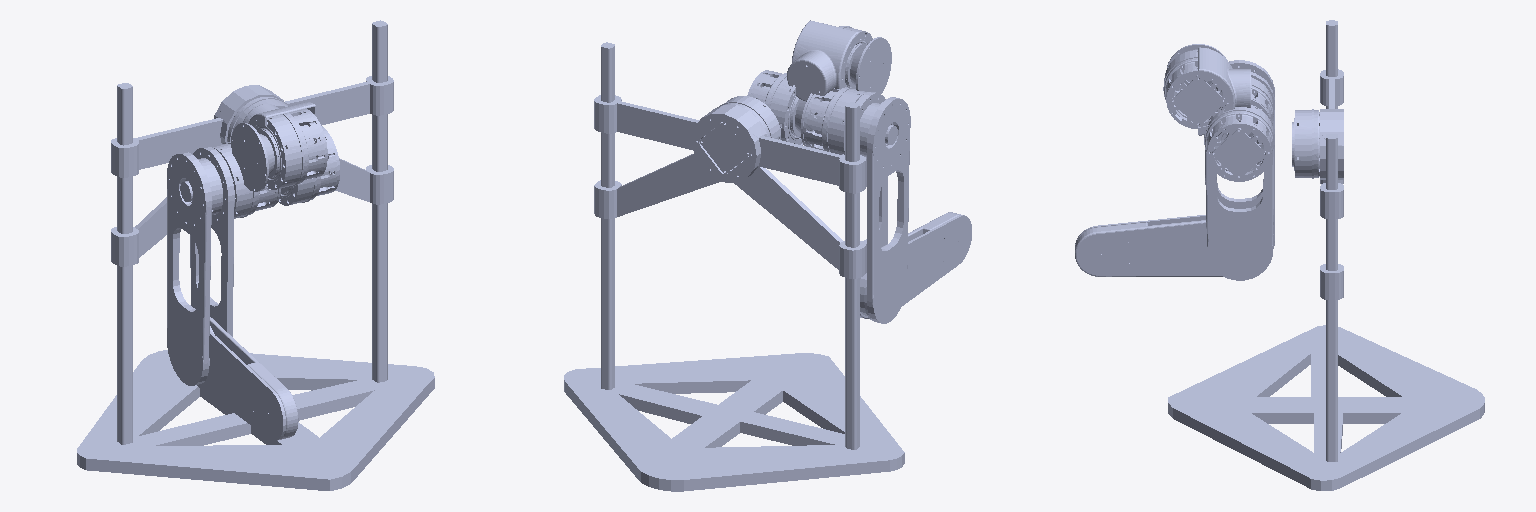
The robot description file, URDF, robot "titanleg":
<?xml version="1.0" encoding="utf-8"?>
<robot
name="titanleg" xmlns:xacro="http://ros.org/wiki/xacro">
  <link
  name="world_link"/>
  <link
    name="base_link">
    <inertial>
      <origin
        xyz="0.213364495363574 -0.471640702282736 0.19640549122243"
        rpy="0 0 0" />
      <mass
        value="4.56027988555656" />
      <inertia
        ixx="0.189441924698921"
        ixy="0.00107759199253"
        ixz="-0.00110055721004939"
        iyy="0.241596135146403"
        iyz="-0.00251149046217883"
        izz="0.144666388806691" />
    </inertial>
    <visual>
      <origin
        xyz="0 0 0"
        rpy="0 0 0" />
      <geometry>
        <mesh
          filename="package://my_box_bot_gazebo/meshes/base_link.STL" />
      </geometry>
      <material
        name="">
        <color
          rgba="0.792156862745098 0.819607843137255 0.933333333333333 1" />
      </material>
    </visual>
    <collision>
      <origin
        xyz="0 0 0"
        rpy="0 0 0" />
      <geometry>
        <mesh
          filename="package://my_box_bot_gazebo/meshes/base_link.STL" />
      </geometry>
    </collision>
  </link>
  <joint
    name="dummy_joint"
    type="fixed">
    <parent
      link="world_link" />
    <child
      link="base_link" />
  </joint>
  <link
    name="c_bracket">
    <inertial>
      <origin
        xyz="-0.0621160426573205 6.66379779257209E-06 -0.0419870468989706"
        rpy="0 0 0" />
      <mass
        value="0.1941398277098" />
      <inertia
        ixx="0.000261155018400833"
        ixy="-1.04515996200884E-08"
        ixz="-3.72184232659521E-08"
        iyy="0.000187909216337469"
        iyz="-1.78676211495791E-09"
        izz="0.000246157573305316" />
    </inertial>
    <visual>
      <origin
        xyz="0 0 0"
        rpy="0 0 0" />
      <geometry>
        <mesh
          filename="package://my_box_bot_gazebo/meshes/c_bracket.STL" />
      </geometry>
      <material
        name="">
        <color
          rgba="0.792156862745098 0.819607843137255 0.933333333333333 1" />
      </material>
    </visual>
    <collision>
      <origin
        xyz="0 0 0"
        rpy="0 0 0" />
      <geometry>
        <mesh
          filename="package://my_box_bot_gazebo/meshes/c_bracket.STL" />
      </geometry>
    </collision>
  </link>
  <joint
    name="c_b"
    type="revolute">
    <origin
      xyz="0.25765 -0.61988 0.5435"
      rpy="-1.5708 0 -1.5708" />
    <parent
      link="base_link" />
    <child
      link="c_bracket" />
    <axis
      xyz="1 0 0" />
    <limit
      lower="0"
      upper="0"
      effort="0"
      velocity="0" />
  </joint>
  <link
    name="abd_acc">
    <inertial>
      <origin
        xyz="0.0137366855479558 0.0589617454017474 0.150563146931354"
        rpy="0 0 0" />
      <mass
        value="0.580805573486017" />
      <inertia
        ixx="0.000492305119037265"
        ixy="-1.66069058598287E-07"
        ixz="-3.49271202080687E-09"
        iyy="0.000492299071608541"
        iyz="3.03086613508584E-09"
        izz="0.000905329045363657" />
    </inertial>
    <visual>
      <origin
        xyz="0 0 0"
        rpy="0 0 0" />
      <geometry>
        <mesh
          filename="package://my_box_bot_gazebo/meshes/abd_acc.STL" />
      </geometry>
      <material
        name="">
        <color
          rgba="0.792156862745098 0.819607843137255 0.933333333333333 1" />
      </material>
    </visual>
    <collision>
      <origin
        xyz="0 0 0"
        rpy="0 0 0" />
      <geometry>
        <mesh
          filename="package://my_box_bot_gazebo/meshes/abd_acc.STL" />
      </geometry>
    </collision>
  </link>
  <joint
    name="shoulder_joint"
    type="fixed">
    <origin
      xyz="0.058961 0.013735 0.086158"
      rpy="3.1416 0 -1.5708" />
    <parent
      link="c_bracket" />
    <child
      link="abd_acc" />
    <axis
      xyz="0 0 0" />
  </joint>
  <link
    name="knee_acc">
    <inertial>
      <origin
        xyz="0.0137373611839682 0.058960746117987 0.143743758177868"
        rpy="0 0 0" />
      <mass
        value="0.487854303371581" />
      <inertia
        ixx="0.000461942589547207"
        ixy="-1.65351846880484E-07"
        ixz="-3.46706400794511E-09"
        iyy="0.000461936302665996"
        iyz="3.09582952281677E-09"
        izz="0.000789118999469293" />
    </inertial>
    <visual>
      <origin
        xyz="0 0 0"
        rpy="0 0 0" />
      <geometry>
        <mesh
          filename="package://my_box_bot_gazebo/meshes/knee_acc.STL" />
      </geometry>
      <material
        name="">
        <color
          rgba="0.792156862745098 0.819607843137255 0.933333333333333 1" />
      </material>
    </visual>
    <collision>
      <origin
        xyz="0 0 0"
        rpy="0 0 0" />
      <geometry>
        <mesh
          filename="package://my_box_bot_gazebo/meshes/knee_acc.STL" />
      </geometry>
    </collision>
  </link>
  <joint
    name="knee_joint"
    type="revolute">
    <origin
      xyz="-0.0281 0.015201 0.109"
      rpy="0 0 -0.53405" />
    <parent
      link="abd_acc" />
    <child
      link="knee_acc" />
    <axis
      xyz="0 0 0" />
    <limit
      lower="0"
      upper="0"
      effort="0"
      velocity="0" />
  </joint>
  <link
    name="upperleg1">
    <inertial>
      <origin
        xyz="-0.00100299376130375 -0.136846344638095 0.00598644922577091"
        rpy="0 0 0" />
      <mass
        value="0.365894283988061" />
      <inertia
        ixx="0.00501531006279228"
        ixy="-2.49651872515819E-05"
        ixz="-1.31419189750013E-07"
        iyy="0.000465886615454427"
        iyz="3.6496462278299E-07"
        izz="0.00547244054208457" />
    </inertial>
    <visual>
      <origin
        xyz="0 0 0"
        rpy="0 0 0" />
      <geometry>
        <mesh
          filename="package://my_box_bot_gazebo/meshes/upperleg1.STL" />
      </geometry>
      <material
        name="">
        <color
          rgba="0.792156862745098 0.819607843137255 0.933333333333333 1" />
      </material>
    </visual>
    <collision>
      <origin
        xyz="0 0 0"
        rpy="0 0 0" />
      <geometry>
        <mesh
          filename="package://my_box_bot_gazebo/meshes/upperleg1.STL" />
      </geometry>
    </collision>
  </link>
  <joint
    name="leg1"
    type="fixed">
    <origin
      xyz="0.013735 0.058961 0.18616"
      rpy="3.1416 0 2.0944" />
    <parent
      link="knee_acc" />
    <child
      link="upperleg1" />
    <axis
      xyz="0 0 0" />
  </joint>
  <link
    name="upperleg2">
    <inertial>
      <origin
        xyz="-0.00100338820261525 -0.136846318364015 0.00598649213306363"
        rpy="0 0 0" />
      <mass
        value="0.365892540566899" />
      <inertia
        ixx="0.00501530240958118"
        ixy="-2.49676826176121E-05"
        ixz="-1.30825760733807E-07"
        iyy="0.000465884953887905"
        iyz="3.64972401421192E-07"
        izz="0.00547243141152344" />
    </inertial>
    <visual>
      <origin
        xyz="0 0 0"
        rpy="0 0 0" />
      <geometry>
        <mesh
          filename="package://my_box_bot_gazebo/meshes/upperleg2.STL" />
      </geometry>
      <material
        name="">
        <color
          rgba="0.792156862745098 0.819607843137255 0.933333333333333 1" />
      </material>
    </visual>
    <collision>
      <origin
        xyz="0 0 0"
        rpy="0 0 0" />
      <geometry>
        <mesh
          filename="package://my_box_bot_gazebo/meshes/upperleg2.STL" />
      </geometry>
    </collision>
  </link>
  <joint
    name="leg_joint2"
    type="fixed">
    <origin
      xyz="0.013735 0.058961 0.21416"
      rpy="0 0 -1.0472" />
    <parent
      link="knee_acc" />
    <child
      link="upperleg2" />
    <axis
      xyz="0 0 0" />
  </joint>
  <link
    name="pulley">
    <inertial>
      <origin
        xyz="-1.65143005070867E-05 -1.63786974211044E-05 0.0140009766604349"
        rpy="0 0 0" />
      <mass
        value="0.15148726652934" />
      <inertia
        ixx="9.46435303972224E-05"
        ixy="-1.12660524011322E-08"
        ixz="-4.31453747154025E-09"
        iyy="9.4575248296758E-05"
        iyz="-7.83189860899337E-10"
        izz="0.000169400649471206" />
    </inertial>
    <visual>
      <origin
        xyz="0 0 0"
        rpy="0 0 0" />
      <geometry>
        <mesh
          filename="package://my_box_bot_gazebo/meshes/pulley.STL" />
      </geometry>
      <material
        name="">
        <color
          rgba="0.792156862745098 0.819607843137255 0.933333333333333 1" />
      </material>
    </visual>
    <collision>
      <origin
        xyz="0 0 0"
        rpy="0 0 0" />
      <geometry>
        <mesh
          filename="package://my_box_bot_gazebo/meshes/pulley.STL" />
      </geometry>
    </collision>
  </link>
  <joint
    name="pulley_joint"
    type="revolute">
    <origin
      xyz="0.013735 0.058961 0.21416"
      rpy="3.1416 0 -1.3981" />
    <parent
      link="knee_acc" />
    <child
      link="pulley" />
    <axis
      xyz="0 0 0" />
    <limit
      lower="0"
      upper="0"
      effort="0"
      velocity="0" />
  </joint>
  <link
    name="lowerleg">
    <inertial>
      <origin
        xyz="0.123760462498263 0.156226128581652 0.208535685291376"
        rpy="0 0 0" />
      <mass
        value="0.66280770717818" />
      <inertia
        ixx="0.00532781613035963"
        ixy="-8.11027667350831E-06"
        ixz="3.01446392615178E-07"
        iyy="0.000483475310695695"
        iyz="0.000183638772467272"
        izz="0.00576046743619263" />
    </inertial>
    <visual>
      <origin
        xyz="0 0 0"
        rpy="0 0 0" />
      <geometry>
        <mesh
          filename="package://my_box_bot_gazebo/meshes/lowerleg.STL" />
      </geometry>
      <material
        name="">
        <color
          rgba="0.792156862745098 0.819607843137255 0.933333333333333 1" />
      </material>
    </visual>
    <collision>
      <origin
        xyz="0 0 0"
        rpy="0 0 0" />
      <geometry>
        <mesh
          filename="package://my_box_bot_gazebo/meshes/lowerleg.STL" />
      </geometry>
    </collision>
  </link>
  <joint
    name="lowerleg_joint"
    type="revolute">
    <origin
      xyz="0.38429 0.29106 0.22292"
      rpy="-3.1416 0 -1.8781" />
    <parent
      link="pulley" />
    <child
      link="lowerleg" />
    <axis
      xyz="0 0 0" />
    <limit
      lower="0"
      upper="0"
      effort="0"
      velocity="0" />
  </joint>
</robot>

--- What the picture shows (computed from the rendered views, not written in the file) ---
Views: 3 orthographic renders of the robot side by side, from view 1: azimuth 30°, elevation 25°; view 2: azimuth 150°, elevation 25°; view 3: azimuth 270°, elevation 25°.
Robot: titanleg — 9 links, 8 joints (4 revolute, 4 fixed); root link world_link; default pose: all joints at 0.
Links seen in each view (by area): view 1: base_link, c_bracket, upperleg2, lowerleg, upperleg1, knee_acc, abd_acc, pulley; view 2: base_link, upperleg2, c_bracket, lowerleg, knee_acc, abd_acc, upperleg1; view 3: base_link, lowerleg, knee_acc, c_bracket, abd_acc.
Boxes of the visible links, left/top/right/bottom form: base_link: left=77, top=20, right=434, bottom=490; c_bracket: left=231, top=102, right=327, bottom=191; upperleg2: left=167, top=152, right=211, bottom=385; lowerleg: left=197, top=317, right=298, bottom=440; upperleg1: left=190, top=147, right=234, bottom=336; knee_acc: left=171, top=142, right=277, bottom=384; abd_acc: left=272, top=126, right=340, bottom=206; pulley: left=187, top=158, right=222, bottom=214; base_link: left=564, top=42, right=904, bottom=491; upperleg2: left=867, top=97, right=910, bottom=323; c_bracket: left=787, top=20, right=891, bottom=101; lowerleg: left=860, top=212, right=971, bottom=320; knee_acc: left=803, top=87, right=906, bottom=323; abd_acc: left=747, top=70, right=812, bottom=146; upperleg1: left=856, top=92, right=887, bottom=247; base_link: left=1168, top=20, right=1484, bottom=490; lowerleg: left=1075, top=215, right=1274, bottom=276; knee_acc: left=1204, top=63, right=1274, bottom=280; c_bracket: left=1163, top=44, right=1250, bottom=135; abd_acc: left=1204, top=99, right=1273, bottom=181.
Bounding box of the posed robot: 0.6185 × 0.6898 × 0.6309 m (x, y, z).
8 mesh visuals loaded from 8 distinct referenced files (8 binary STL).